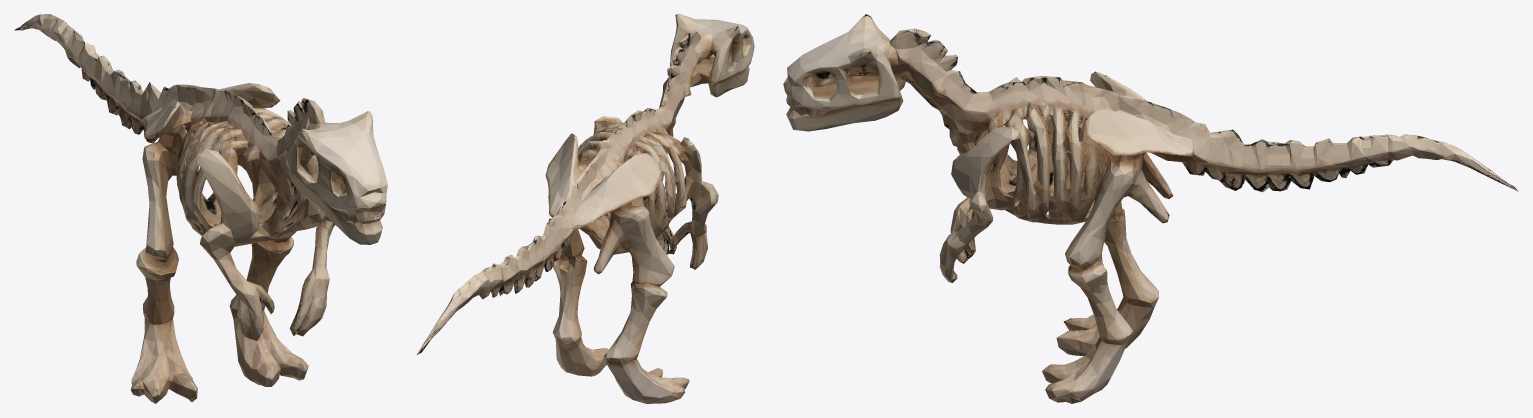
The model's file is allosaurus-skjelett.glb.
3 renders of one model, left to right at view 1: azimuth 30°, elevation 25°; view 2: azimuth 150°, elevation 25°; view 3: azimuth 270°, elevation 25°, orthographic. The views are drawn at different scales.
Visible parts, largest first — view 1: geometry_0; view 2: geometry_0; view 3: geometry_0.
Part boxes in pixels (<box>): geometry_0: <box>14,14,387,403</box>; geometry_0: <box>417,14,754,403</box>; geometry_0: <box>783,14,1518,403</box>.
Size of the model in its own units: 0.25 by 0.5173 by 0.9982.
1 material, 1 textured.
